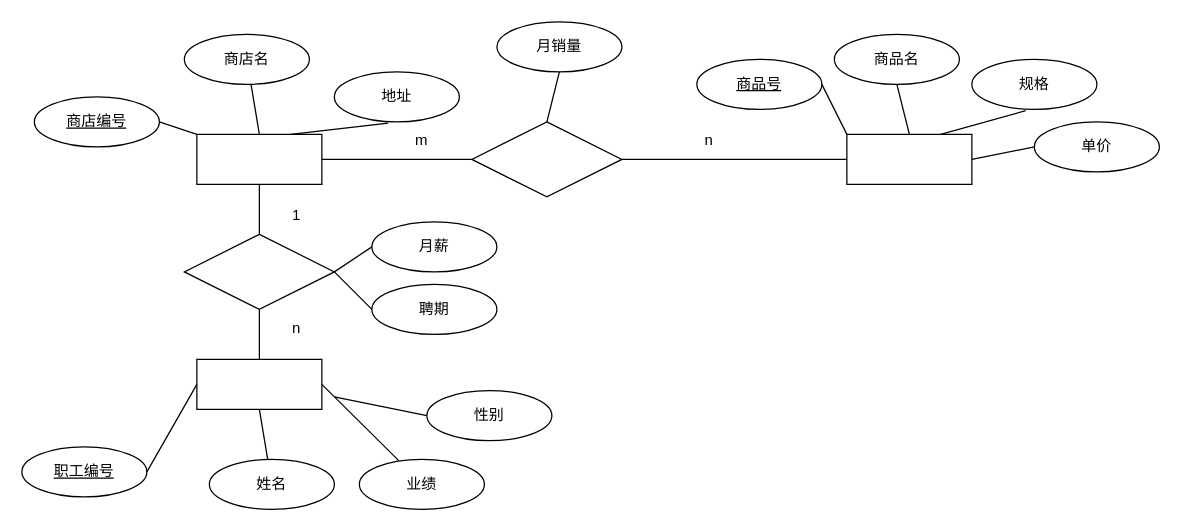
This 1181x531 diagram has some shape labels left out. The shapes that lost their labels are listed below. From the top down, each one's centre as x and y in pixels, then its label:
pixel 259 158: 商店
pixel 546 159: 销售
pixel 909 158: 商品
pixel 258 271: 聘用
pixel 259 383: 职工
